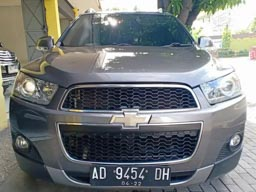plat: (91, 163, 171, 181)
